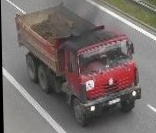truck: (15, 0, 145, 126)
